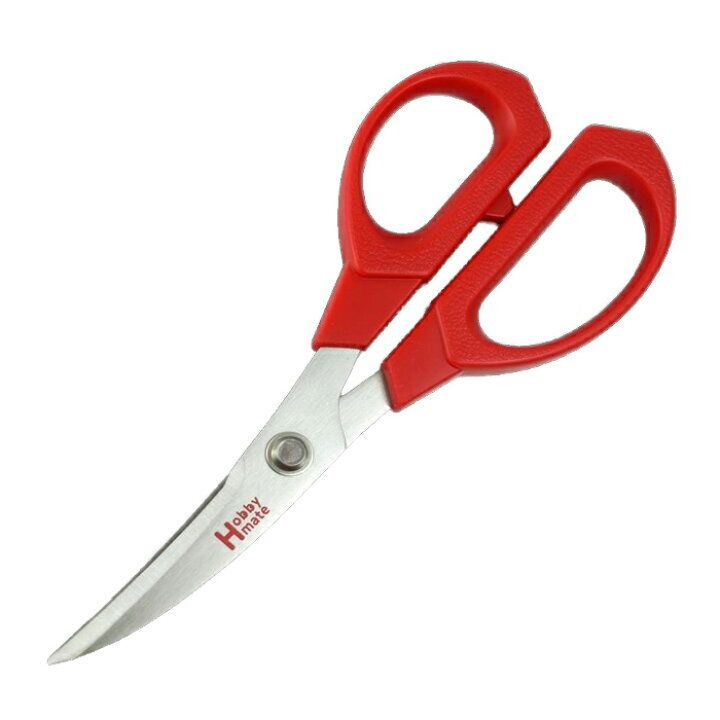scissors: (43, 56, 690, 676)
